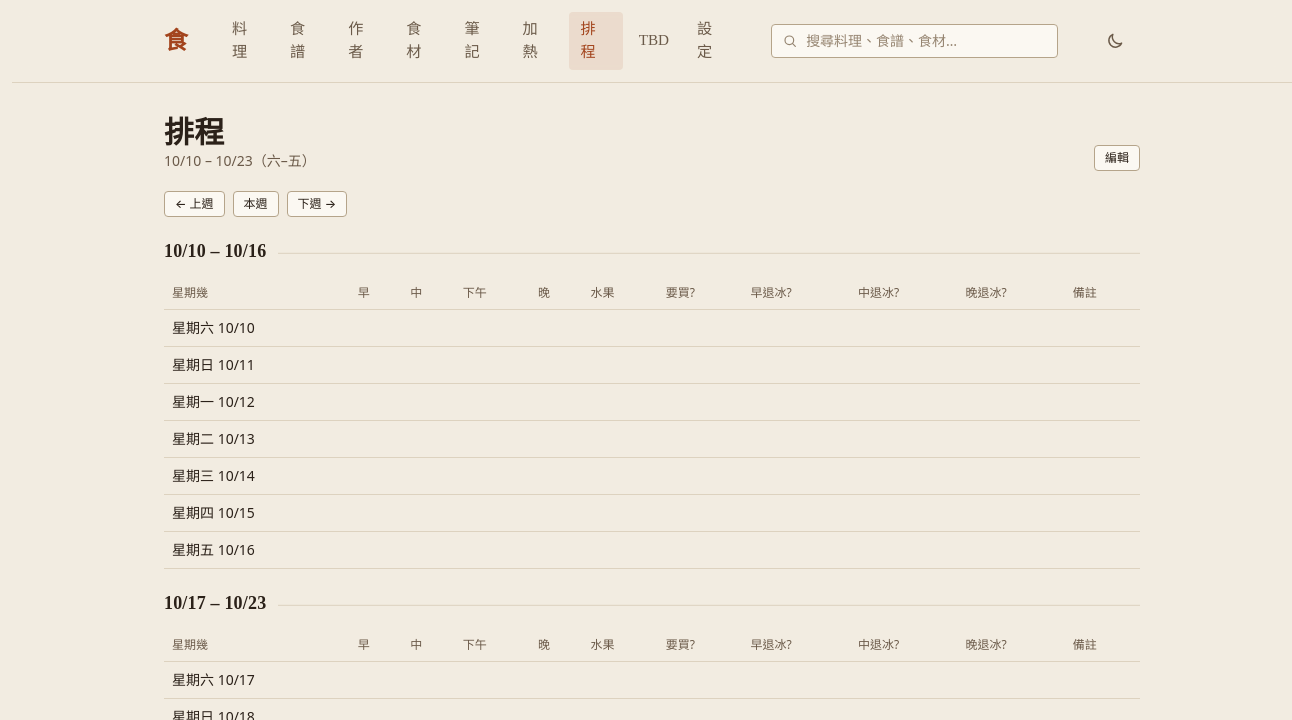
Test: the schedule page › moves a week at a time, by the Saturday in ?week=
The image size is (1292, 720).
Click the link "下週 →": (317, 204) [287,191,347,217]
(page scrolled)
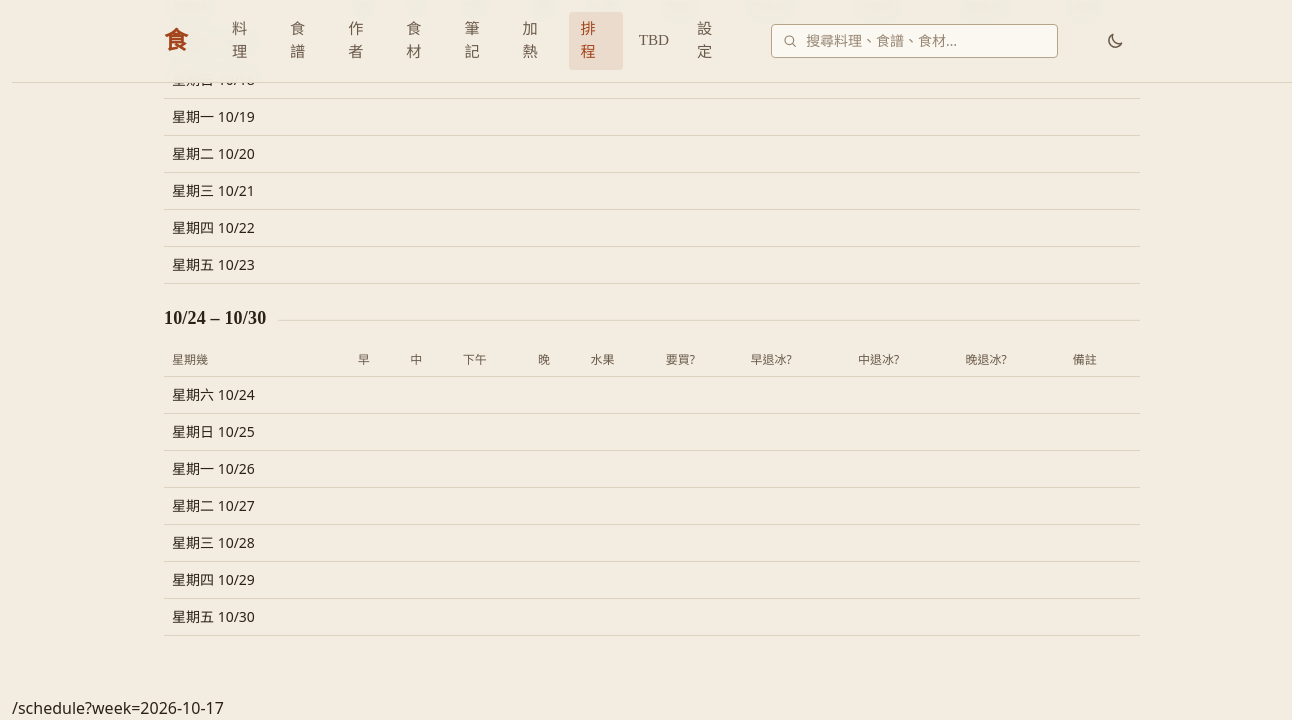
expect the text with test id "location" reads "/schedule?week=2026-10-17": met, box [12,697,224,719]
